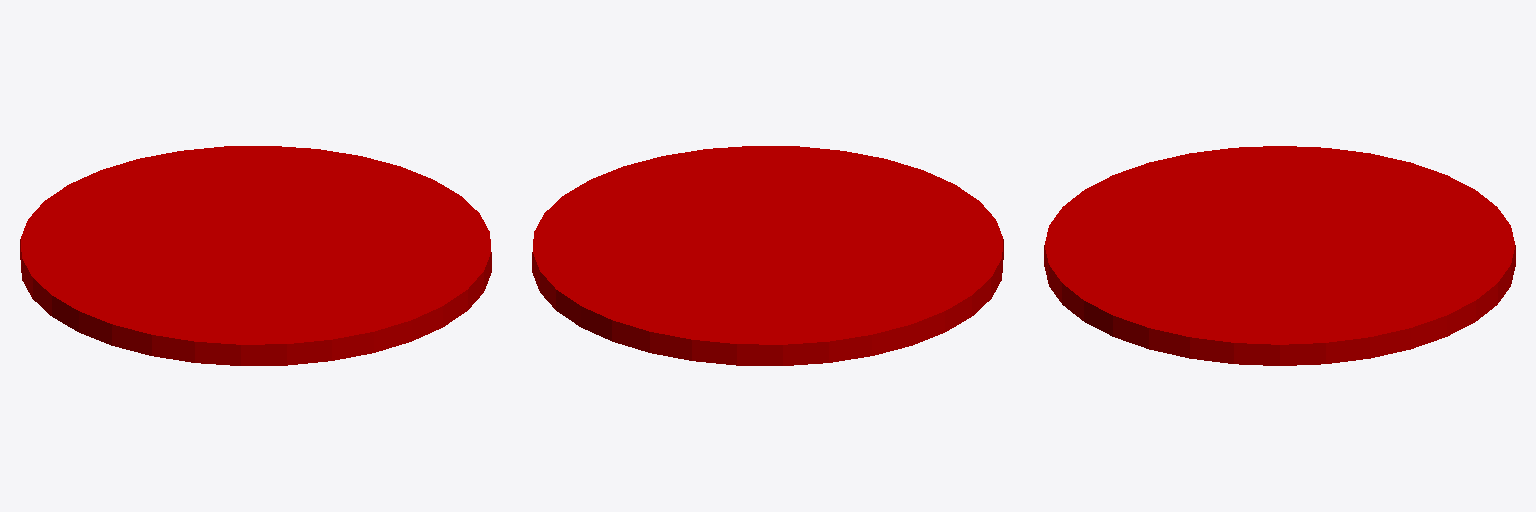
robot.urdf — robot:
<robot name="robot">
   <link name="hand_cylinder_base">
    <visual>
      <geometry>
        <cylinder length="0.05" radius="0.5"/>
      </geometry>
      <material name="red">
        <color rgba="0.8 0 0 0.6"/>
      </material>
      <origin rpy="0 0 0" xyz="0. 0 0"/>
    </visual>
    <collision>
      <geometry>
        <cylinder length="0.05" radius="0.5"/>
      </geometry>
      <origin rpy="0 0 0" xyz="0. 0 0"/>
    </collision>
    <inertial>
      <mass value="0.1"/>
      <inertia ixx="0.1" ixy="0.0" ixz="0.0" iyy="0.1" iyz="0.0" izz="0.1"/>
    </inertial>
  </link>
</robot>

--- What the picture shows (computed from the rendered views, not written in the file) ---
3 views of the same robot in one strip: view 1: azimuth 30°, elevation 25°; view 2: azimuth 150°, elevation 25°; view 3: azimuth 270°, elevation 25° (orthographic).
Model robot with 1 links and 0 joints (none), rooted at hand_cylinder_base, posed every joint at zero.
Visible links, largest first — view 1: hand_cylinder_base; view 2: hand_cylinder_base; view 3: hand_cylinder_base.
Boxes of the visible links, x1=… form: hand_cylinder_base: x1=20, y1=146, x2=491, y2=365; hand_cylinder_base: x1=532, y1=146, x2=1003, y2=365; hand_cylinder_base: x1=1044, y1=146, x2=1515, y2=365.
Size in the robot's own frame: 1 by 1 by 0.05 metres.
Geometry: primitives only (box / cylinder / sphere), no mesh files.